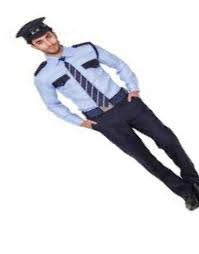uniform: (17, 13, 199, 207)
